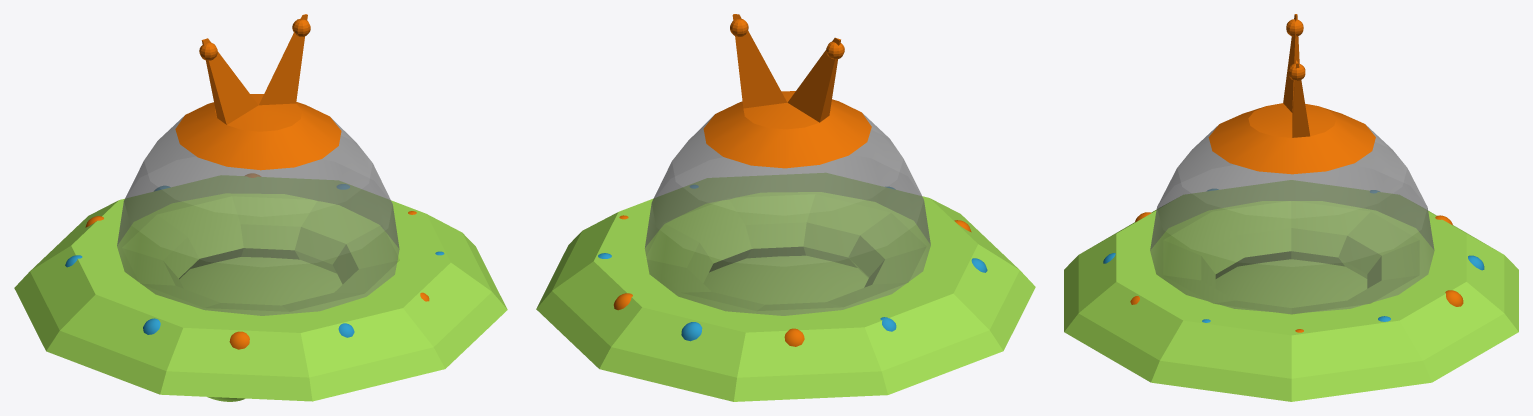
Rendered from UFO3.fbx.
3 renders of one model, left to right at view 1: azimuth 30°, elevation 25°; view 2: azimuth 150°, elevation 25°; view 3: azimuth 270°, elevation 25°, orthographic. The views are drawn at different scales.
Visible parts, largest first — view 1: pSphere104; view 2: pSphere104; view 3: pSphere104.
Boxes of the visible parts, box(x1,y1,x2,y2) form: pSphere104: box(14, 14, 507, 401); pSphere104: box(536, 14, 1035, 401); pSphere104: box(1064, 14, 1518, 401).
Size of the model in its own units: 3.34 by 2.58 by 3.18.
